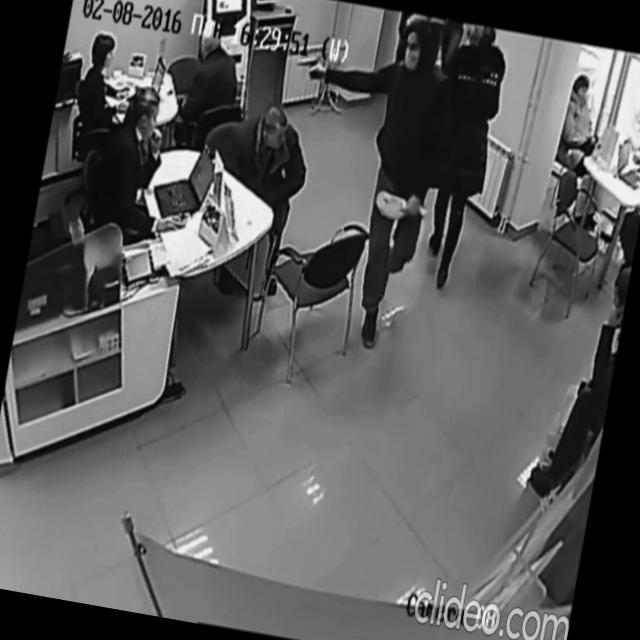gun: (294, 51, 320, 75)
person: (408, 19, 522, 302), (204, 95, 318, 296), (84, 76, 206, 244), (542, 68, 622, 230), (73, 29, 141, 148)
person with a gun: (250, 0, 464, 358)
